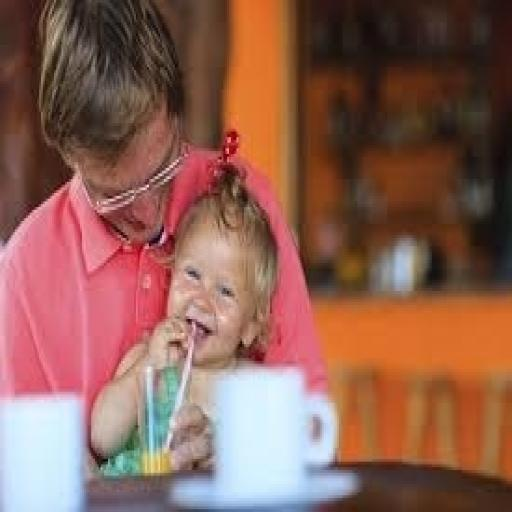eating: (0, 0, 337, 478)
